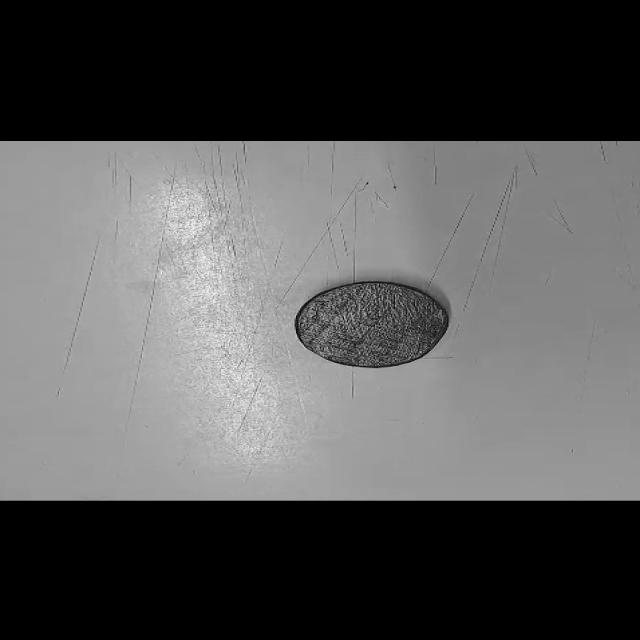rcircle: (295, 281, 448, 368)
